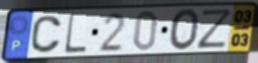0: (131, 9, 159, 53)
2: (98, 11, 128, 54)
C: (29, 14, 63, 55)
L: (62, 12, 88, 56)
O: (168, 7, 201, 52)
Z: (196, 8, 235, 51)
